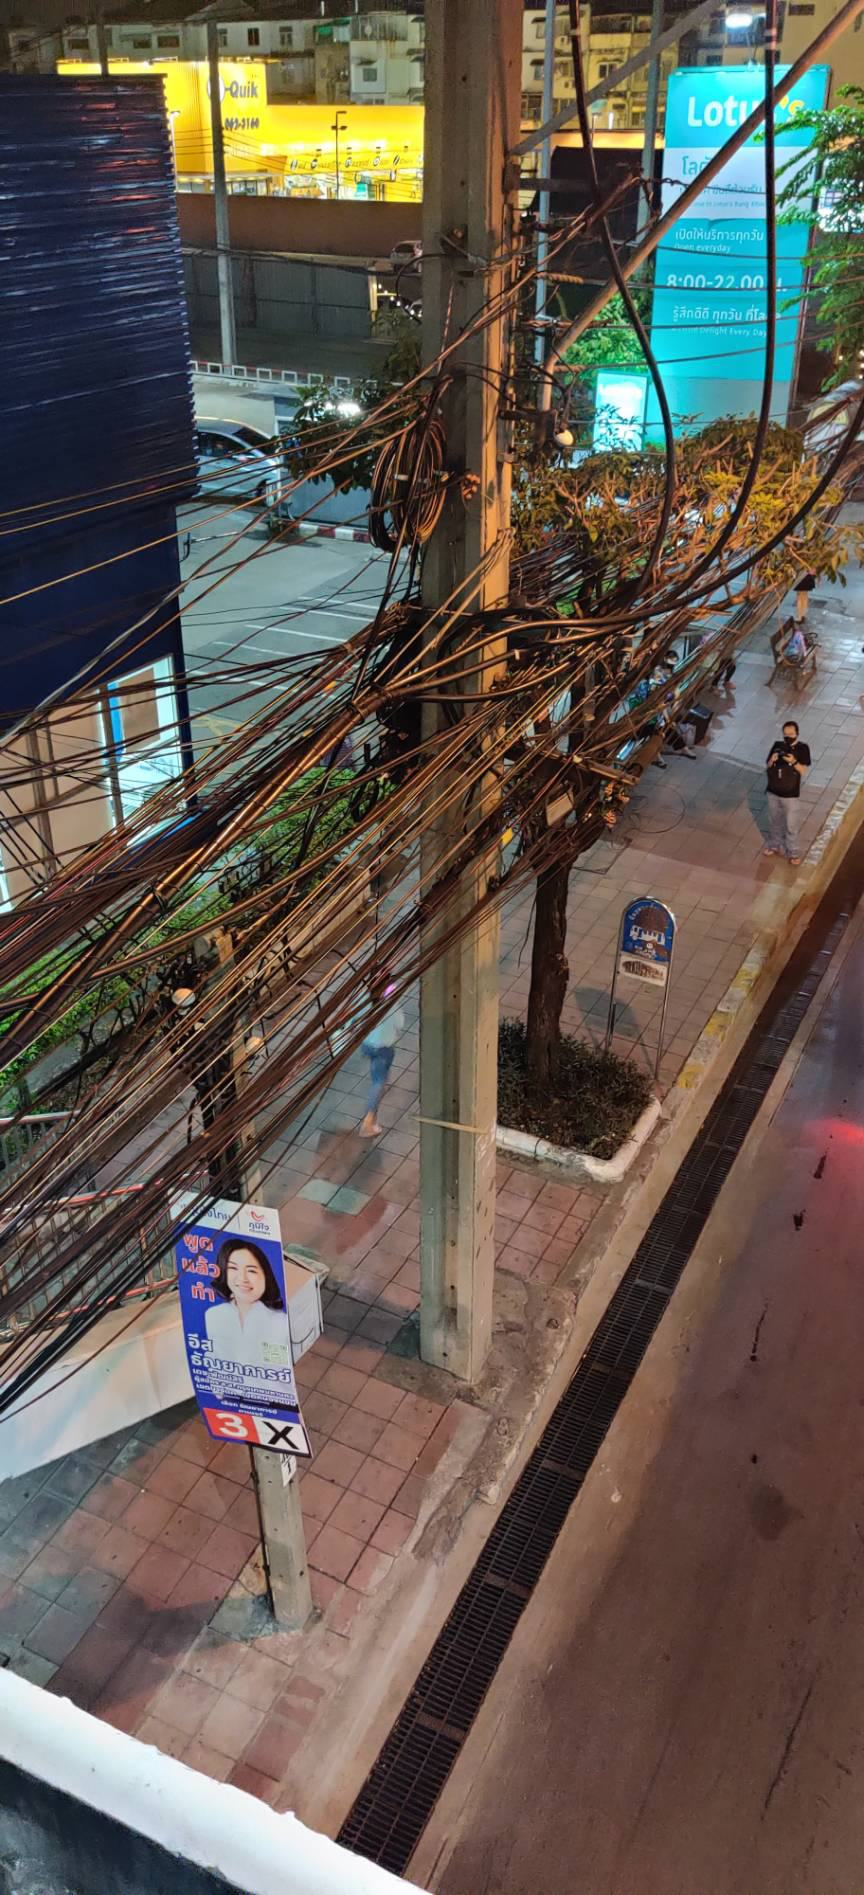Banner: (168, 1186, 317, 1449)
